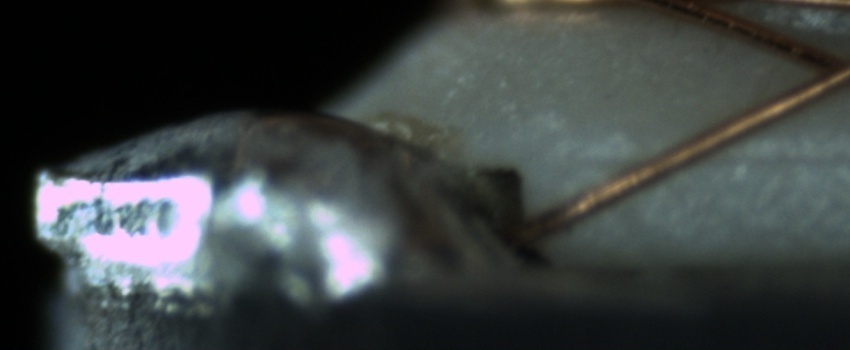CL: (781, 34, 848, 107)
DL: (600, 125, 849, 190)
